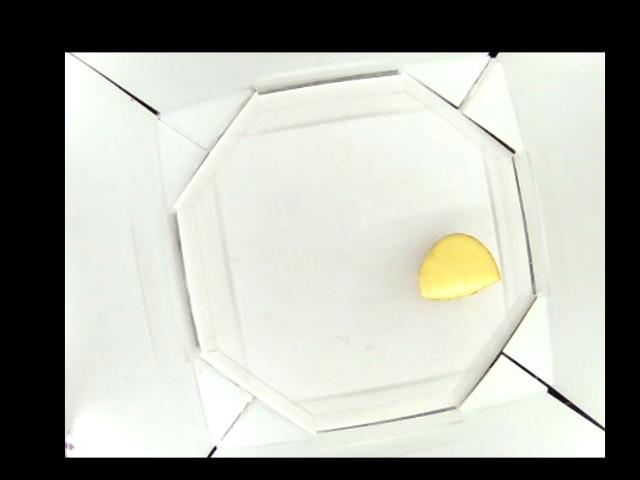Potato: (420, 233, 499, 298)
